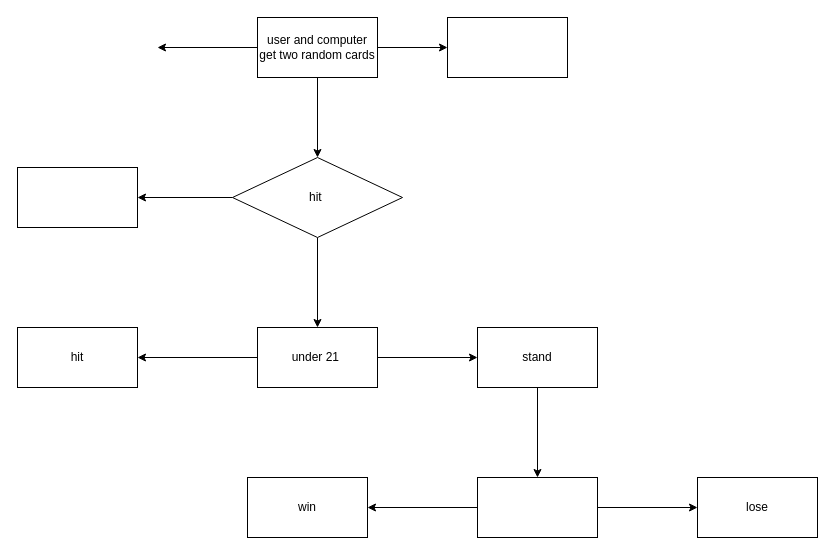
Image size: 835x555. Some labels were removed from this diagram. Here are the shapes that lost their labels. From the top down, the centre of each, then its label:
At (507,47): "user: [10 ,5] comp: [7, X]".
At (77,197): "over 21 computer wins".
At (537,507): "check comp".
